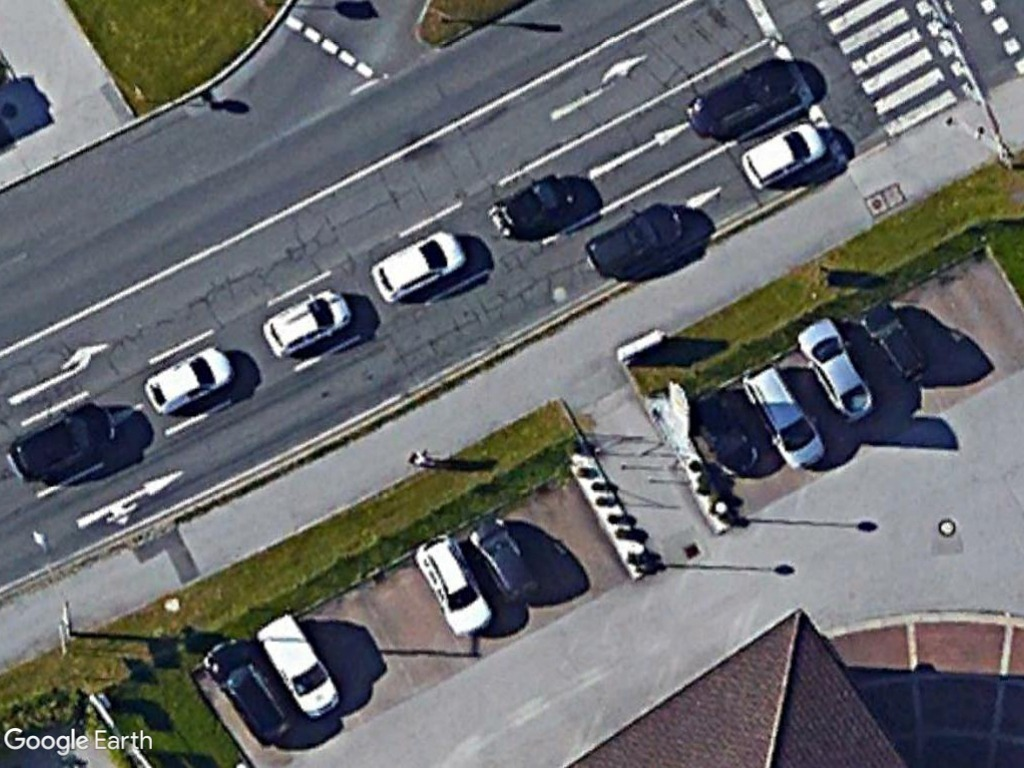car: (197, 634, 297, 745), (682, 55, 801, 142), (739, 361, 828, 474), (4, 398, 117, 486), (407, 531, 497, 641), (584, 192, 688, 285), (790, 318, 874, 423), (260, 280, 357, 364), (140, 340, 238, 419), (369, 225, 468, 302), (465, 515, 542, 610), (736, 122, 828, 191), (859, 300, 932, 386), (487, 170, 570, 245)
van: (255, 612, 346, 722)
